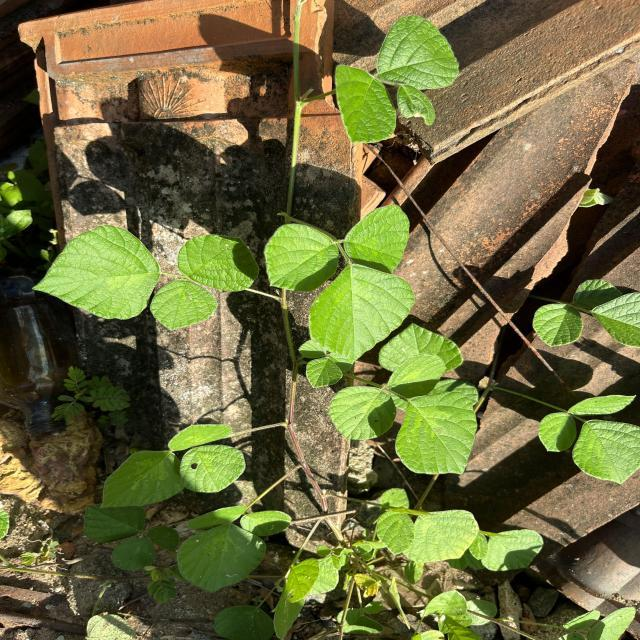Pseudarthria viscida: (30, 222, 261, 333), (262, 203, 416, 366), (326, 353, 478, 476), (98, 422, 247, 510), (537, 393, 640, 486)
